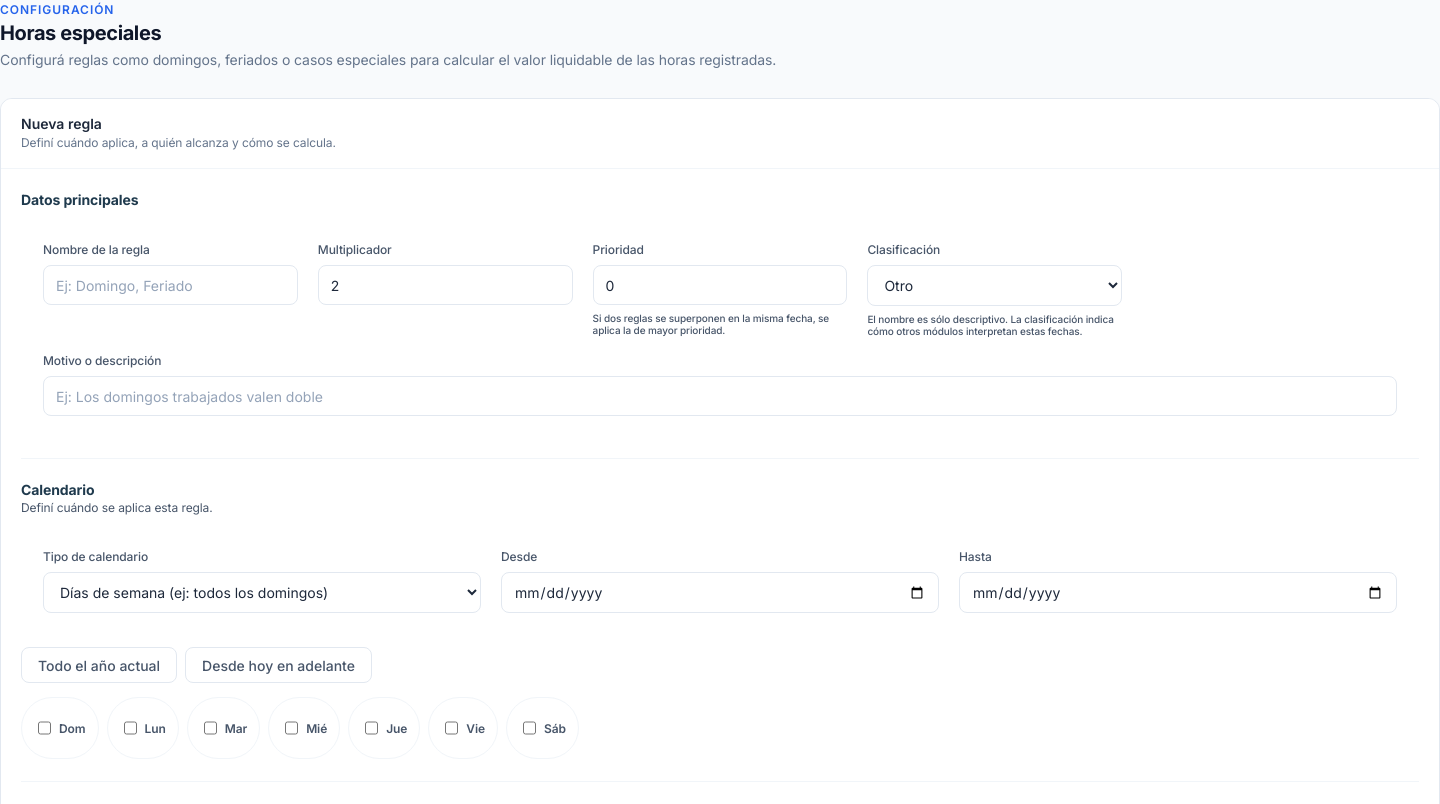
WorkScheduleSettingsPage — Etapa 8B › test 4 — si se activa 'Limitar a empleados específicos' sin elegir a nadie, bloquea el envío
Type "Domingo Odwyer" into the field labelled "Nombre de la regla" at (170, 285), box x1=43 y1=265 x2=298 y2=305
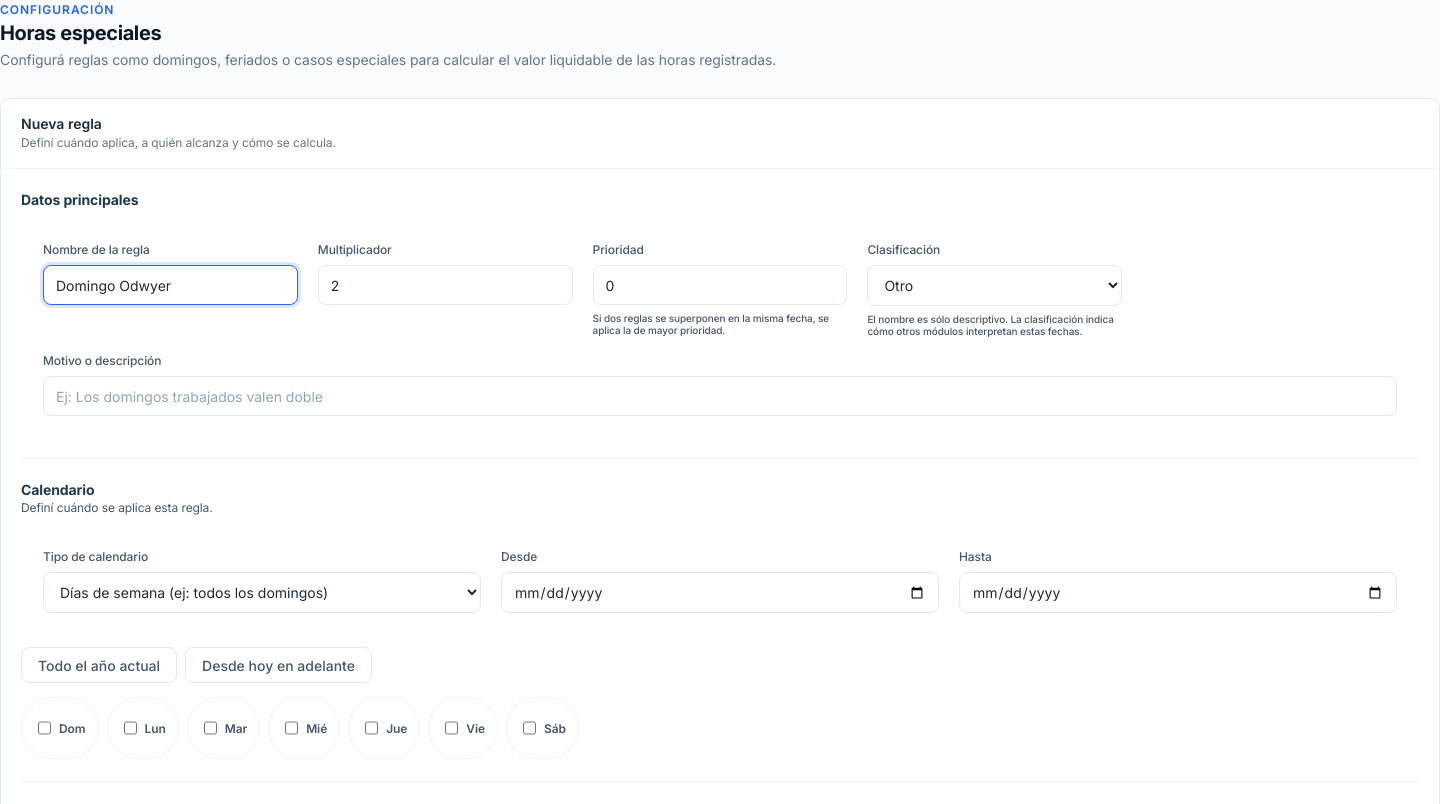
Type "Los domingos valen doble" into the field labelled "Motivo o descripción" at (720, 396), box x1=43 y1=376 x2=1397 y2=416
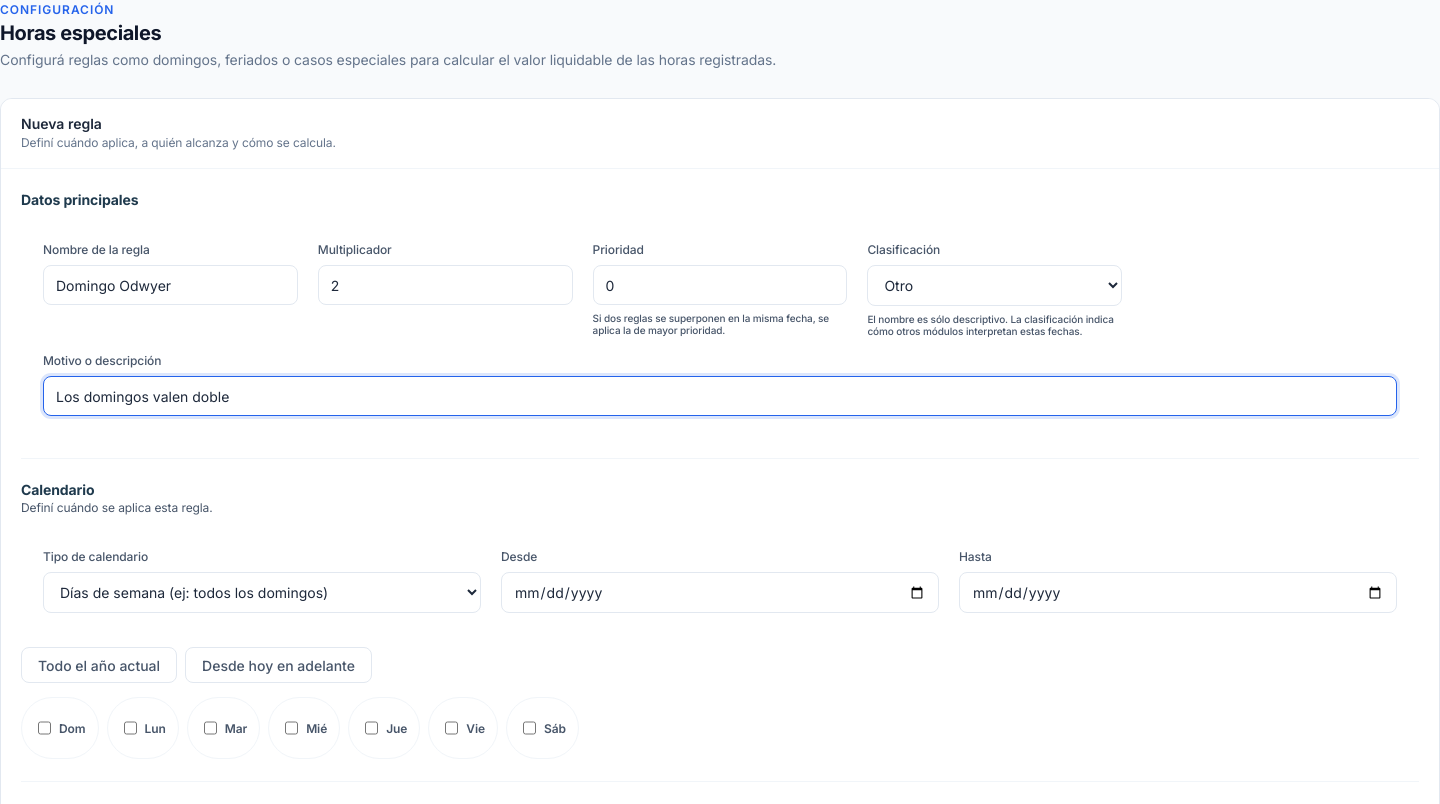
Type "2026-01-01" into the date field labelled "Desde" at (720, 593), box x1=501 y1=572 x2=939 y2=613
(page scrolled)
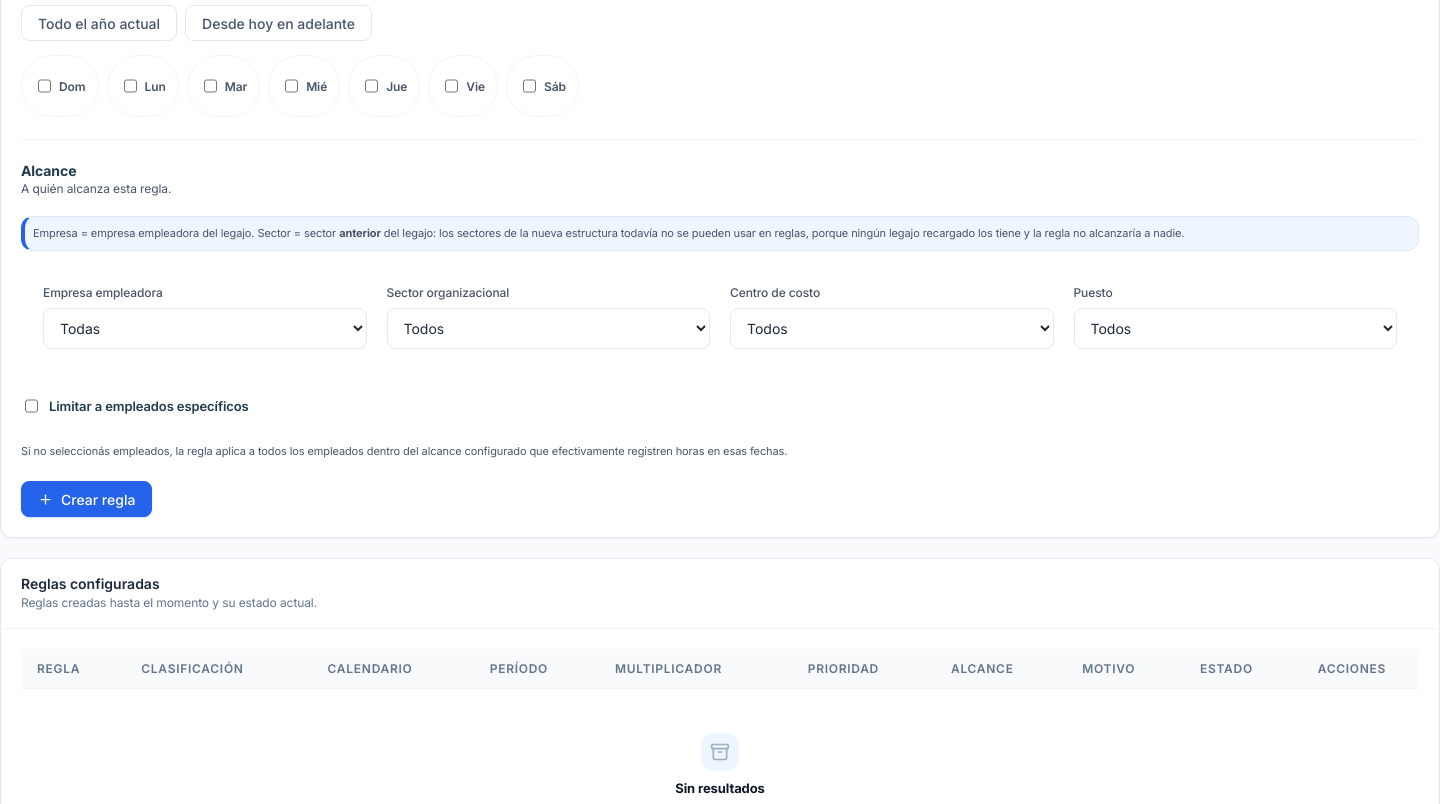
Click the checkbox labelled "Limitar a empleados específicos" at (32, 406), box x1=25 y1=386 x2=38 y2=426
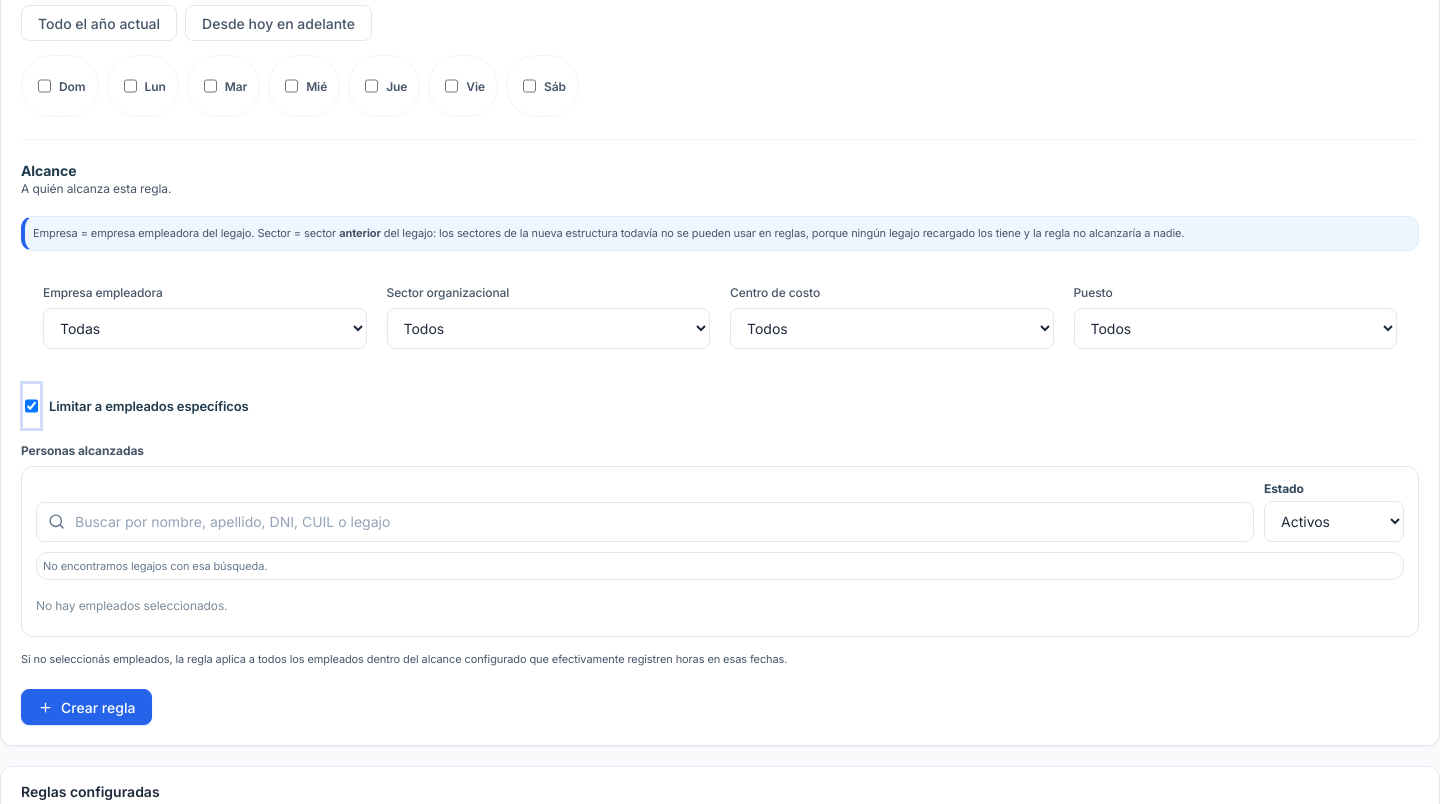
Click the button "Crear regla" at (87, 707), box x1=21 y1=689 x2=152 y2=725
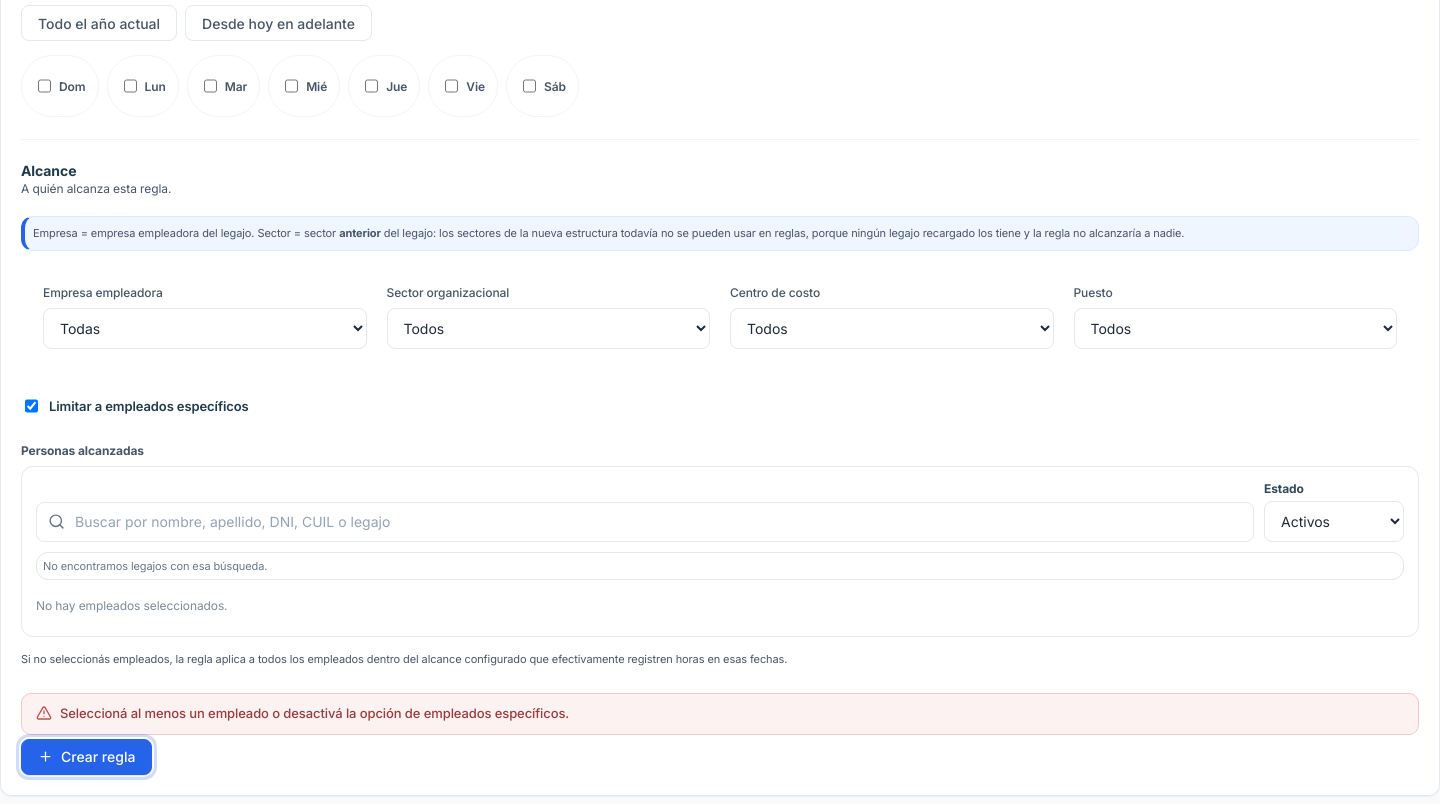
expect the text "Seleccioná al menos un empleado" is shown: met, box x1=60 y1=705 x2=569 y2=721
